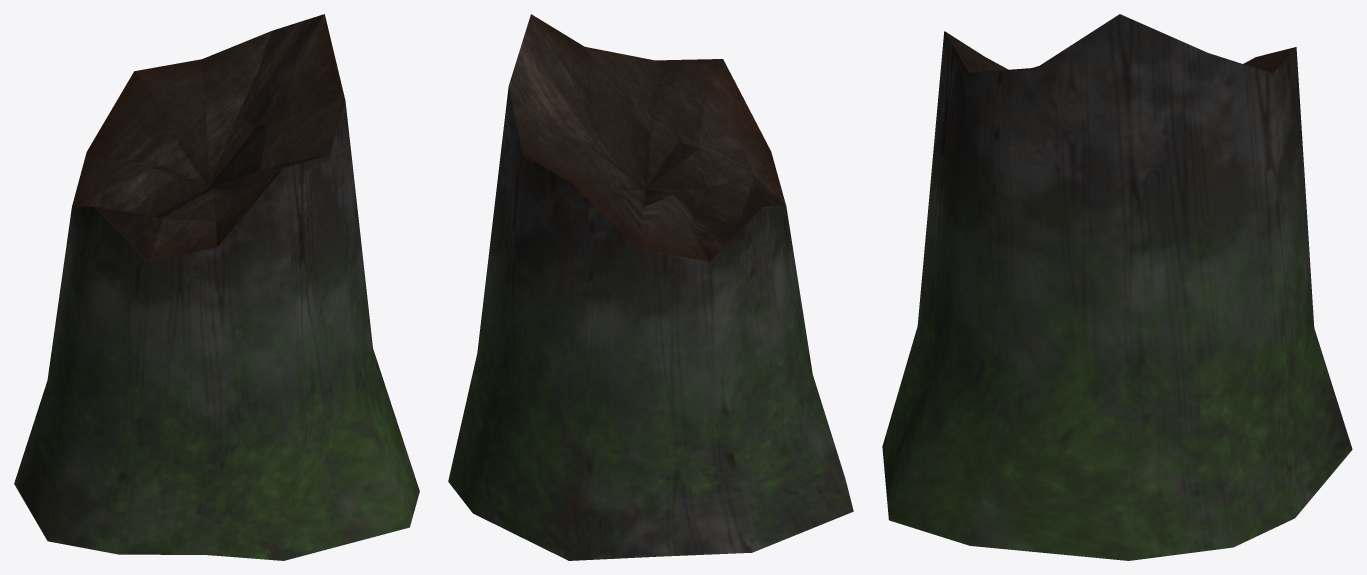
File: broken tree_moss_01.fbx
3 renders of one model, left to right at view 1: azimuth 30°, elevation 25°; view 2: azimuth 150°, elevation 25°; view 3: azimuth 270°, elevation 25°, orthographic. The views are drawn at different scales.
Visible parts, largest first — view 1: broken_tree_moss_01; view 2: broken_tree_moss_01; view 3: broken_tree_moss_01.
Boxes of the visible parts, bbox=[...] form: broken_tree_moss_01: bbox=[14, 14, 419, 560]; broken_tree_moss_01: bbox=[448, 14, 853, 560]; broken_tree_moss_01: bbox=[882, 14, 1352, 560].
Size of the model in its own units: 0.8331 by 0.9778 by 0.8107.
Materials: 1 (1 with a texture image).
